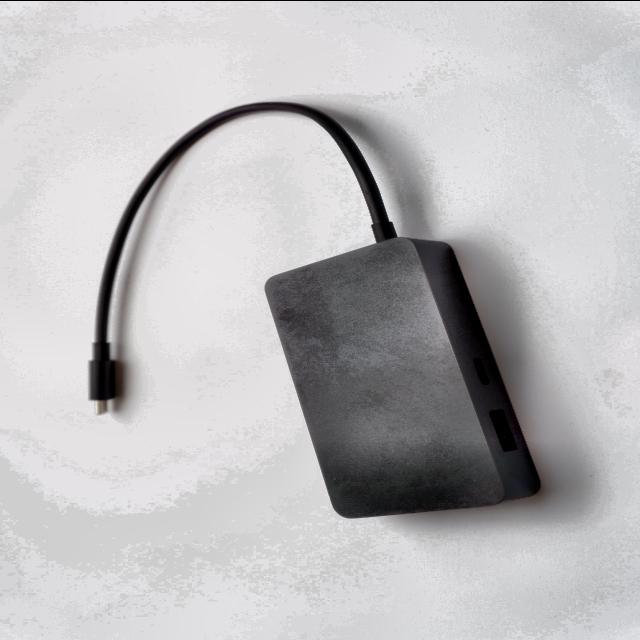Power bank: (90, 101, 540, 517)
